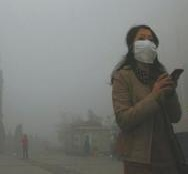person: (107, 22, 188, 172), (19, 133, 31, 160)
